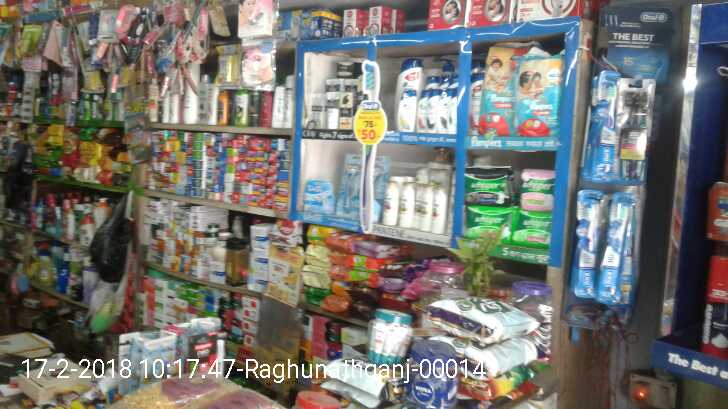gillete: (703, 256, 728, 355)
venus: (338, 153, 358, 215), (371, 156, 385, 219), (304, 179, 335, 206)
